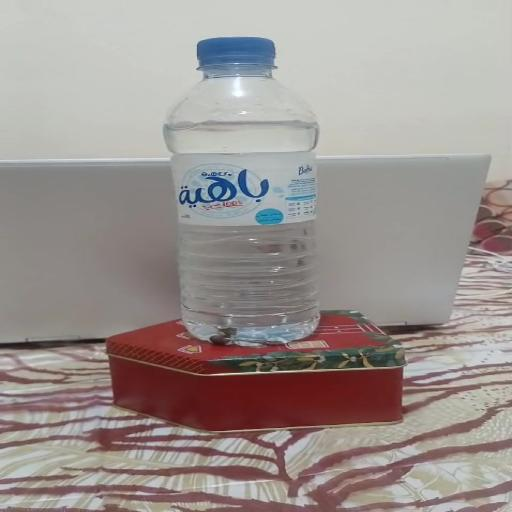bouteille non conformite: (107, 36, 393, 345)
